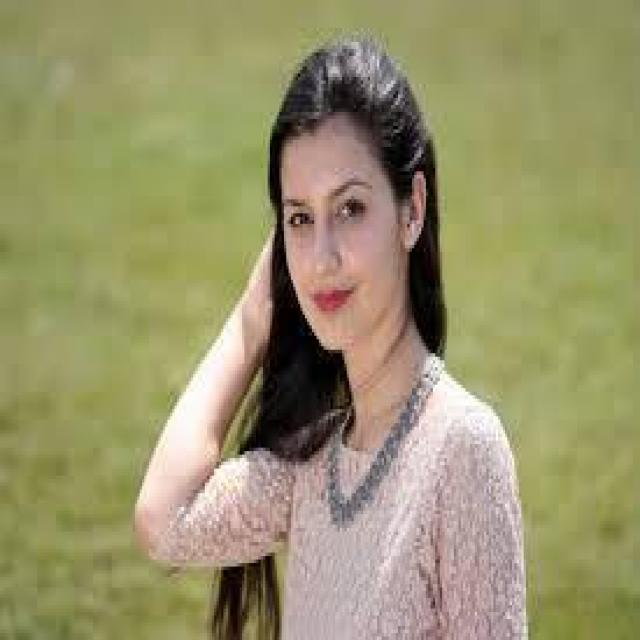person: (140, 38, 549, 630)
